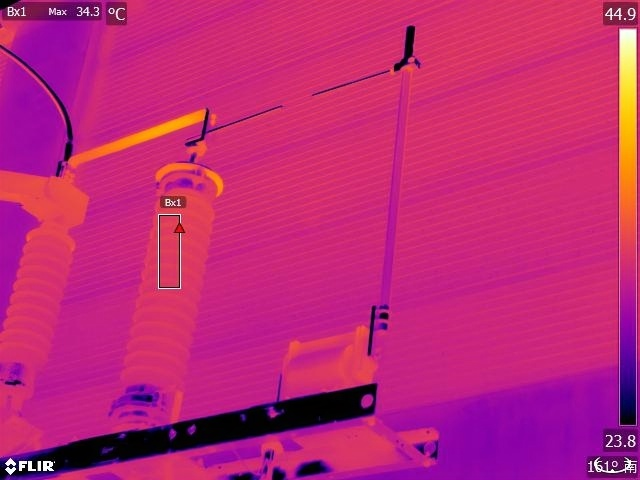post insulator: (107, 152, 228, 422), (1, 214, 81, 429)
